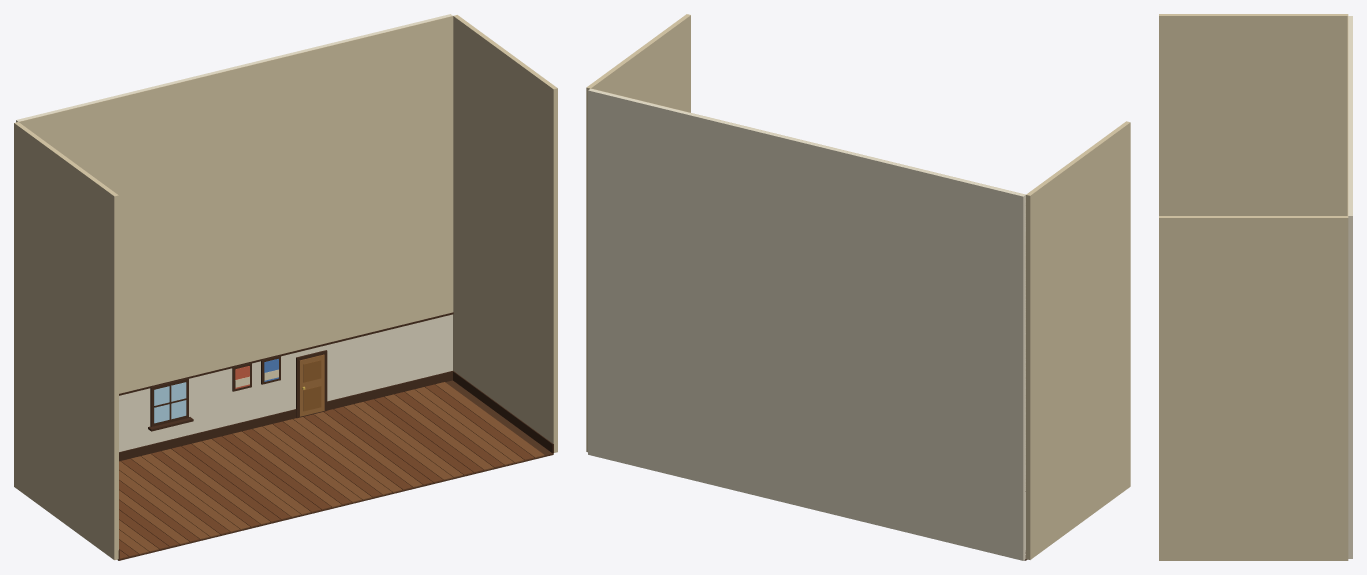
Rendered from room_europa_wood.glb.
3 views of the same model, side by side, from view 1: azimuth 30°, elevation 25°; view 2: azimuth 150°, elevation 25°; view 3: azimuth 270°, elevation 25° (orthographic). The views are drawn at different scales.
Visible parts, largest first — view 1: room; view 2: room; view 3: room.
Part boxes in pixels (x1,y1,x2,y2): room: (14,14,557,560); room: (586,14,1130,560); room: (1159,14,1352,560).
Bounding box in the file's own units: 30.6 × 24.11 × 12.3.
